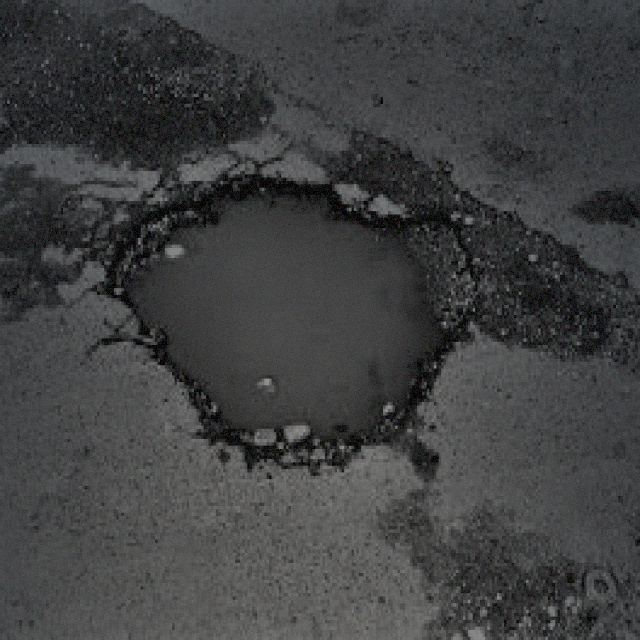pothole: (99, 151, 480, 469)
